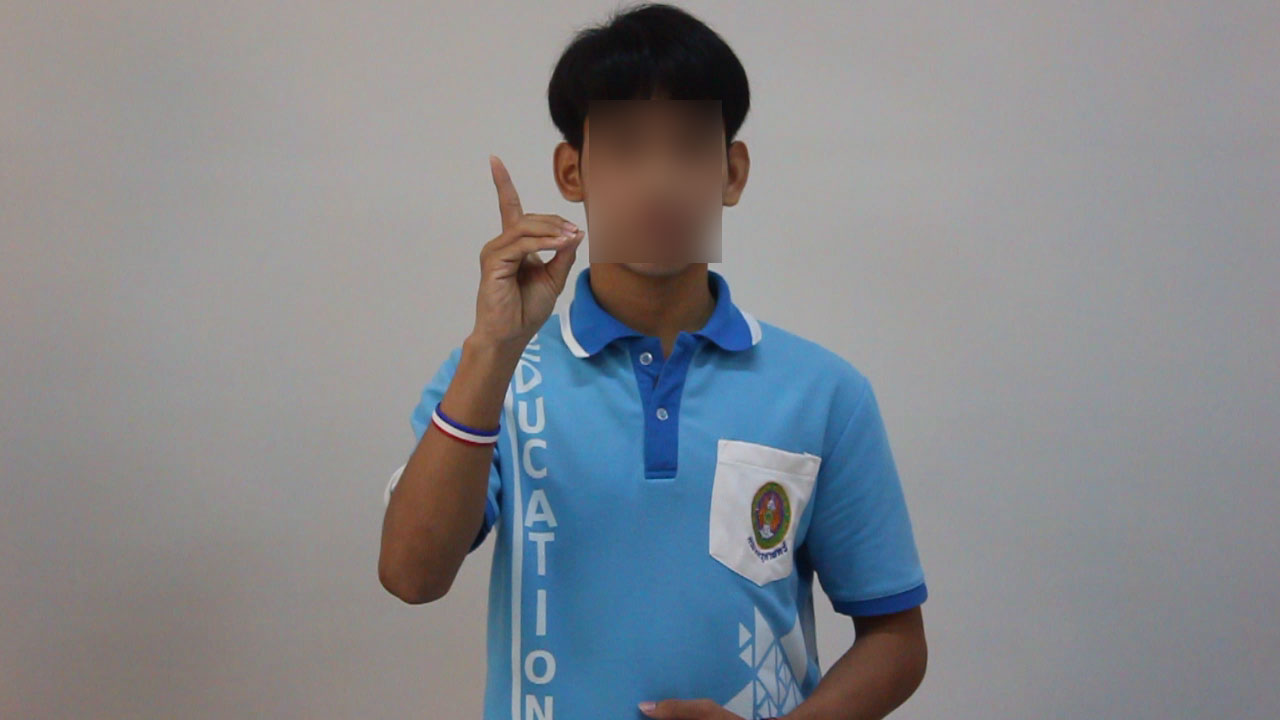dor: (458, 147, 594, 349)
